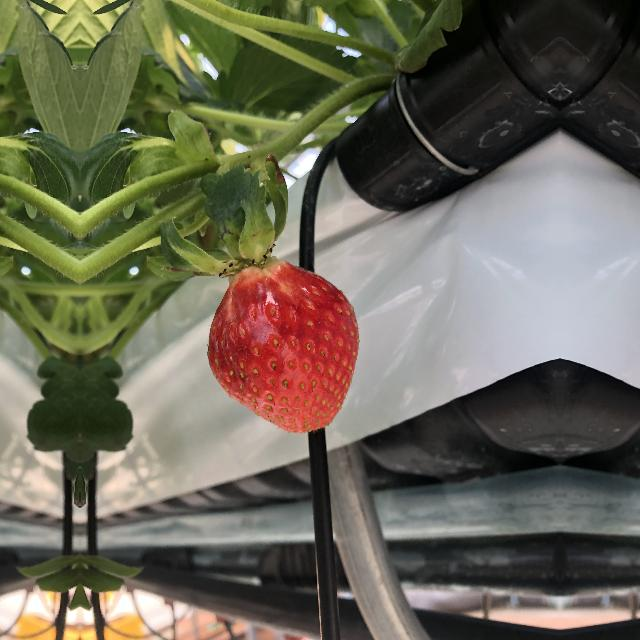Health_100: (200, 254, 364, 438)
